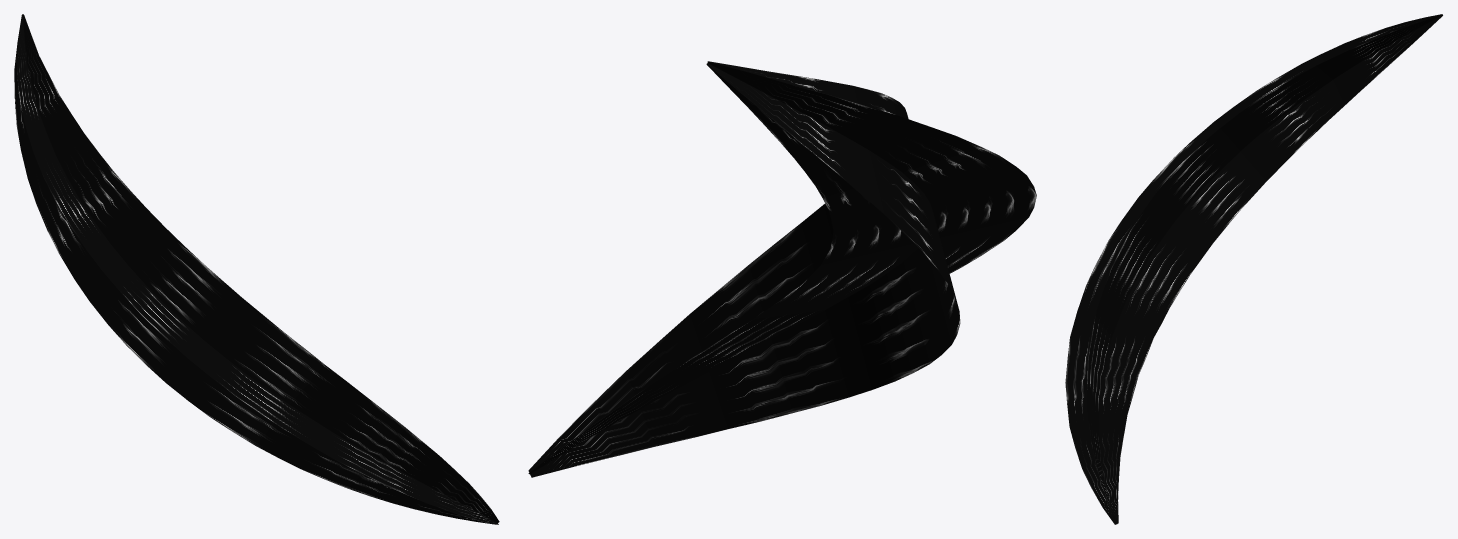
The model's file is 0107_Mesh_xiduolanen_SkillD_luoxuanxian.glb.
3 renders of one model, left to right at view 1: azimuth 30°, elevation 25°; view 2: azimuth 150°, elevation 25°; view 3: azimuth 270°, elevation 25°, orthographic. The views are drawn at different scales.
Size of the model in its own units: 1.82 by 2.2 by 1.94.
Materials: 1 (1 with a texture image).
